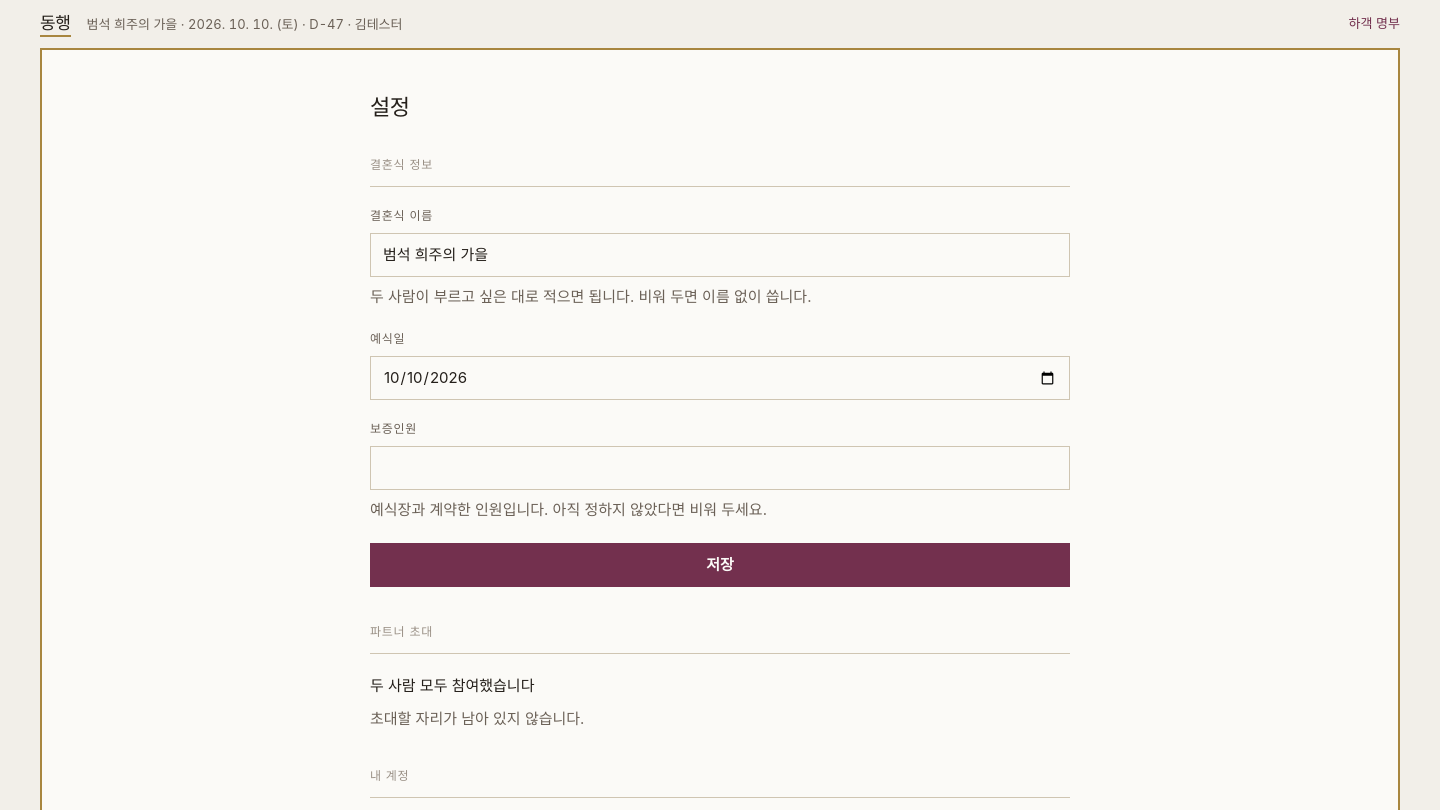
it: clears 결혼식 이름 with null when the couple empties the field, never with ""
Clear the field labelled "결혼식 이름": coordinates (720, 255) [370,233,1070,277]
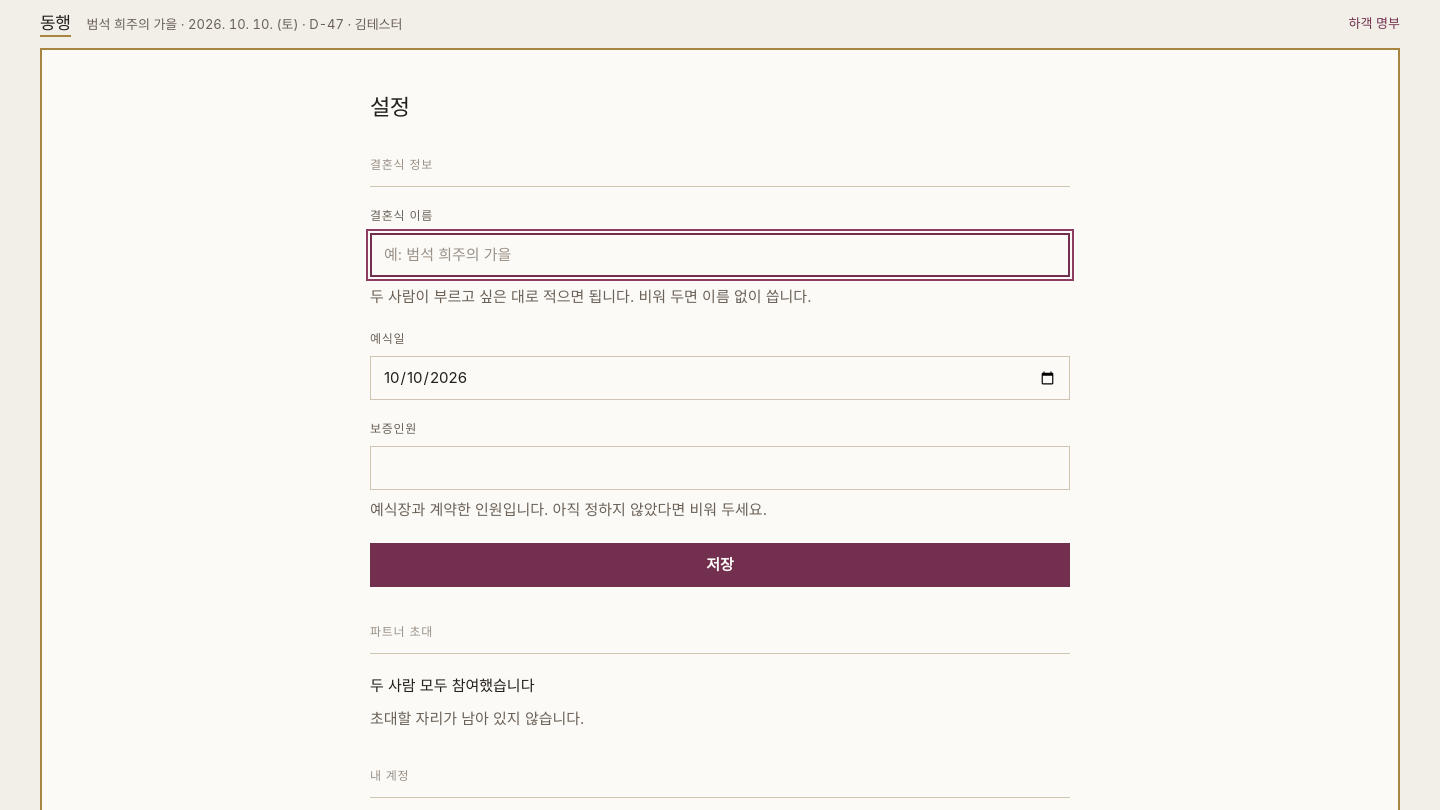
Click the button "저장": coordinates (720, 565) [370,543,1070,587]
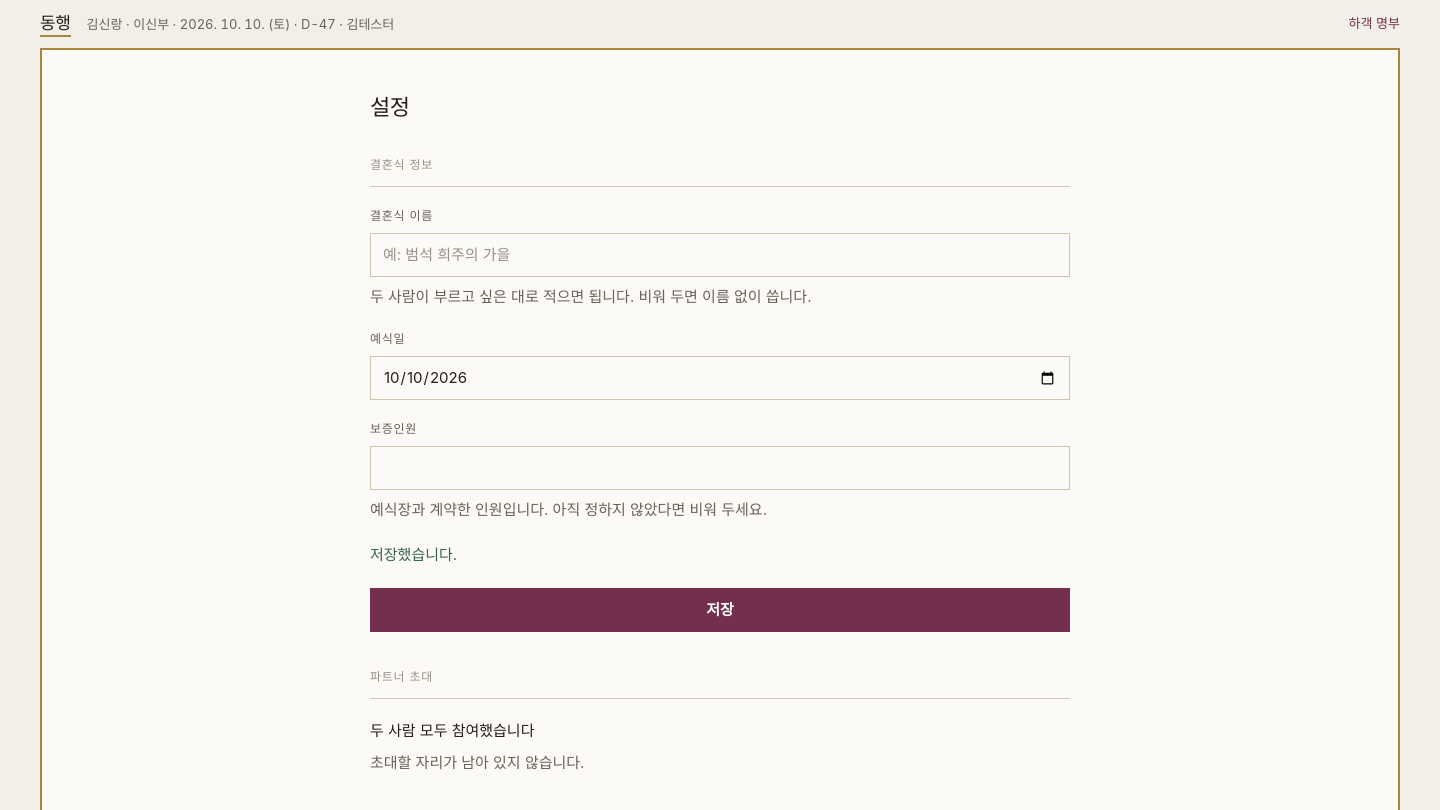
Expected: the text "저장했습니다." is shown, [370,545,457,564]
